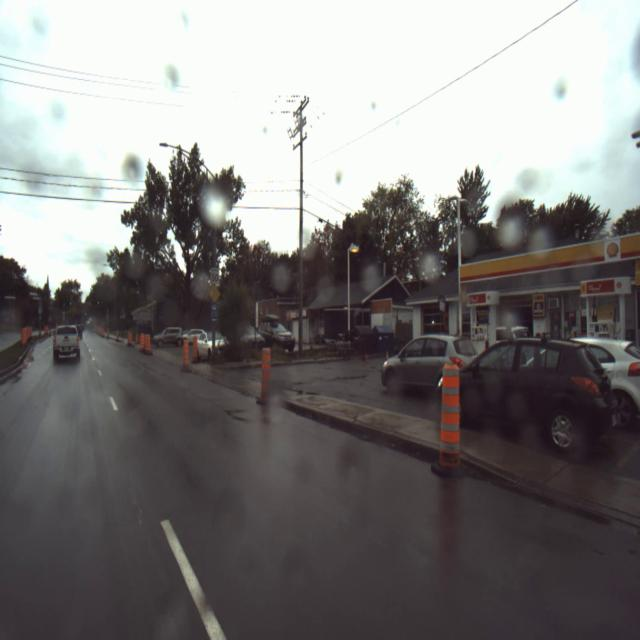car: (442, 338, 614, 454), (575, 337, 640, 429), (382, 335, 474, 399), (261, 321, 296, 354), (52, 324, 80, 364), (197, 332, 225, 359), (153, 328, 183, 349)
